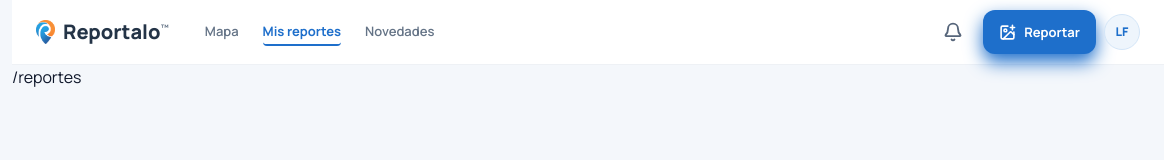
it: REP-3791 Bloque 11-B · Navegación global y errores › UT-B11B-01: la barra de escritorio tiene campana y lleva a Notificaciones (D19)
Expected: the link "LF" is shown, [1104,14,1140,50]
Click the button named "ver notificaciones".
click(953, 32)  # box [931,10,975,54]
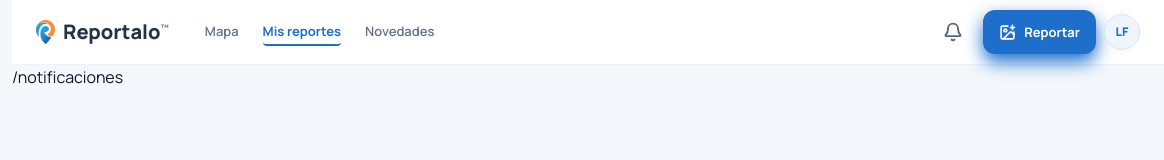
Expected: the text with test id "current-path" reads "/notificaciones", [12,66,123,88]
